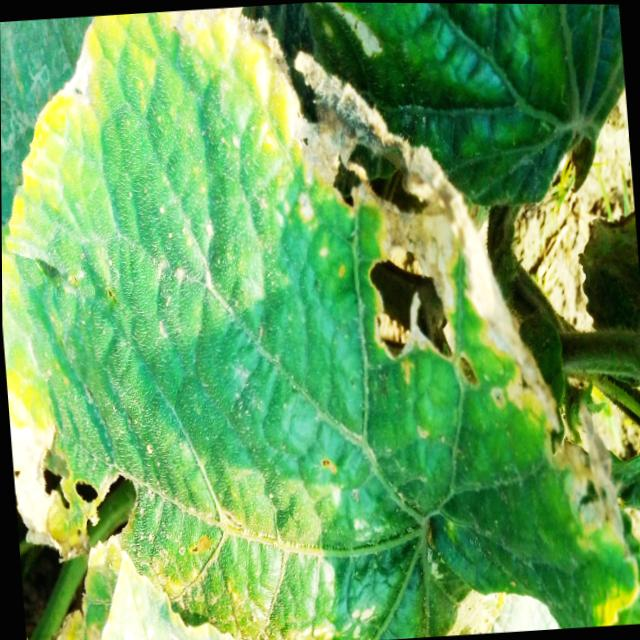Anthracnose: (347, 244, 486, 411), (32, 433, 152, 560), (325, 130, 432, 237)
